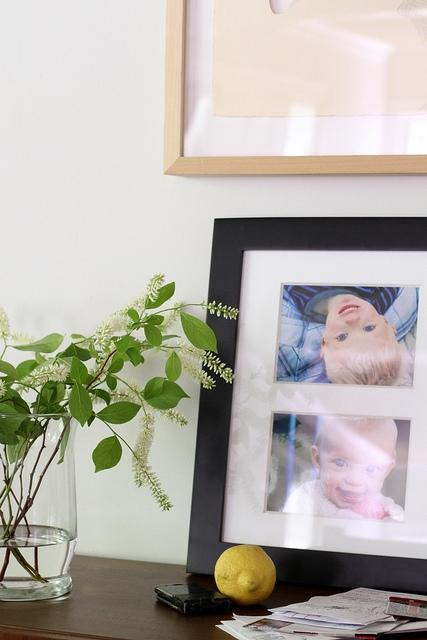lemon: (214, 544, 276, 606)
